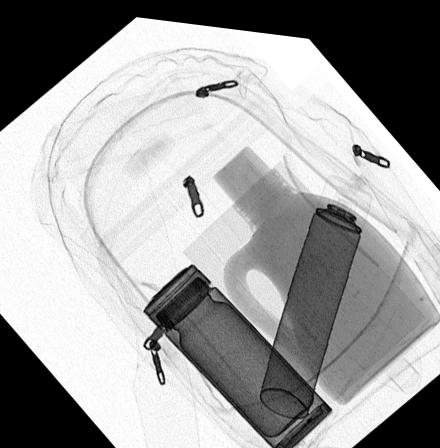Sprayer: (259, 166, 372, 412)
